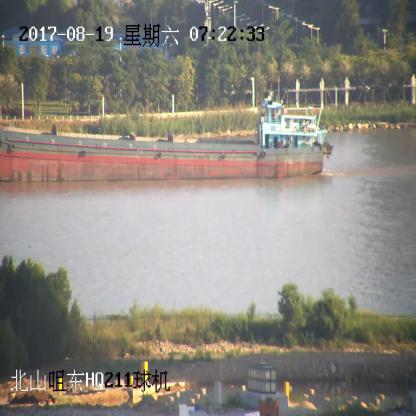Bulk Carrier: (0, 98, 332, 182)
